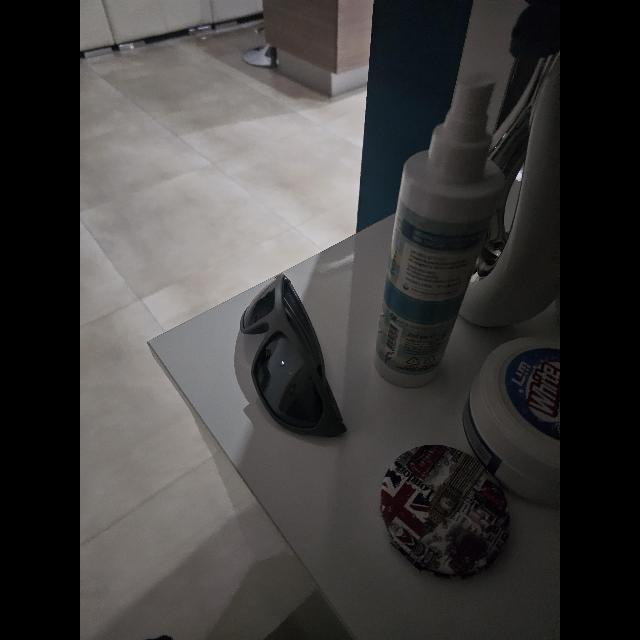Sunglasses: (240, 274, 346, 436)
